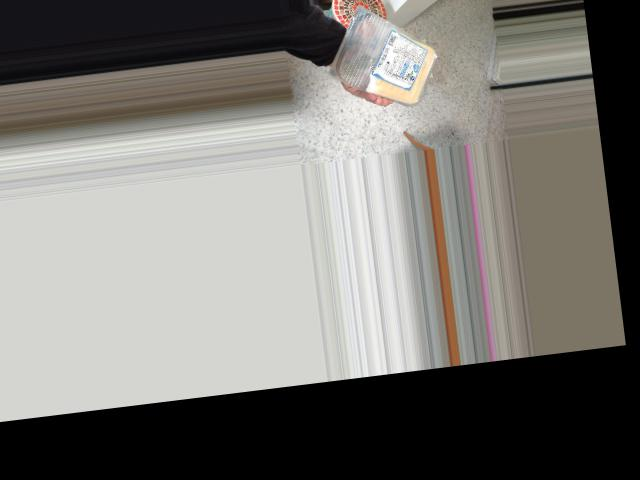cheese: (333, 6, 445, 106)
